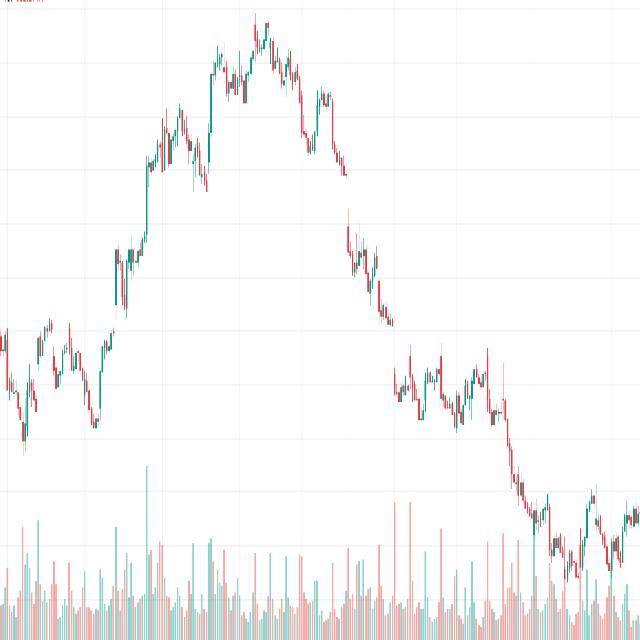Head-Shoulders: (19, 5, 538, 499)
rectangle: (395, 340, 496, 427)
